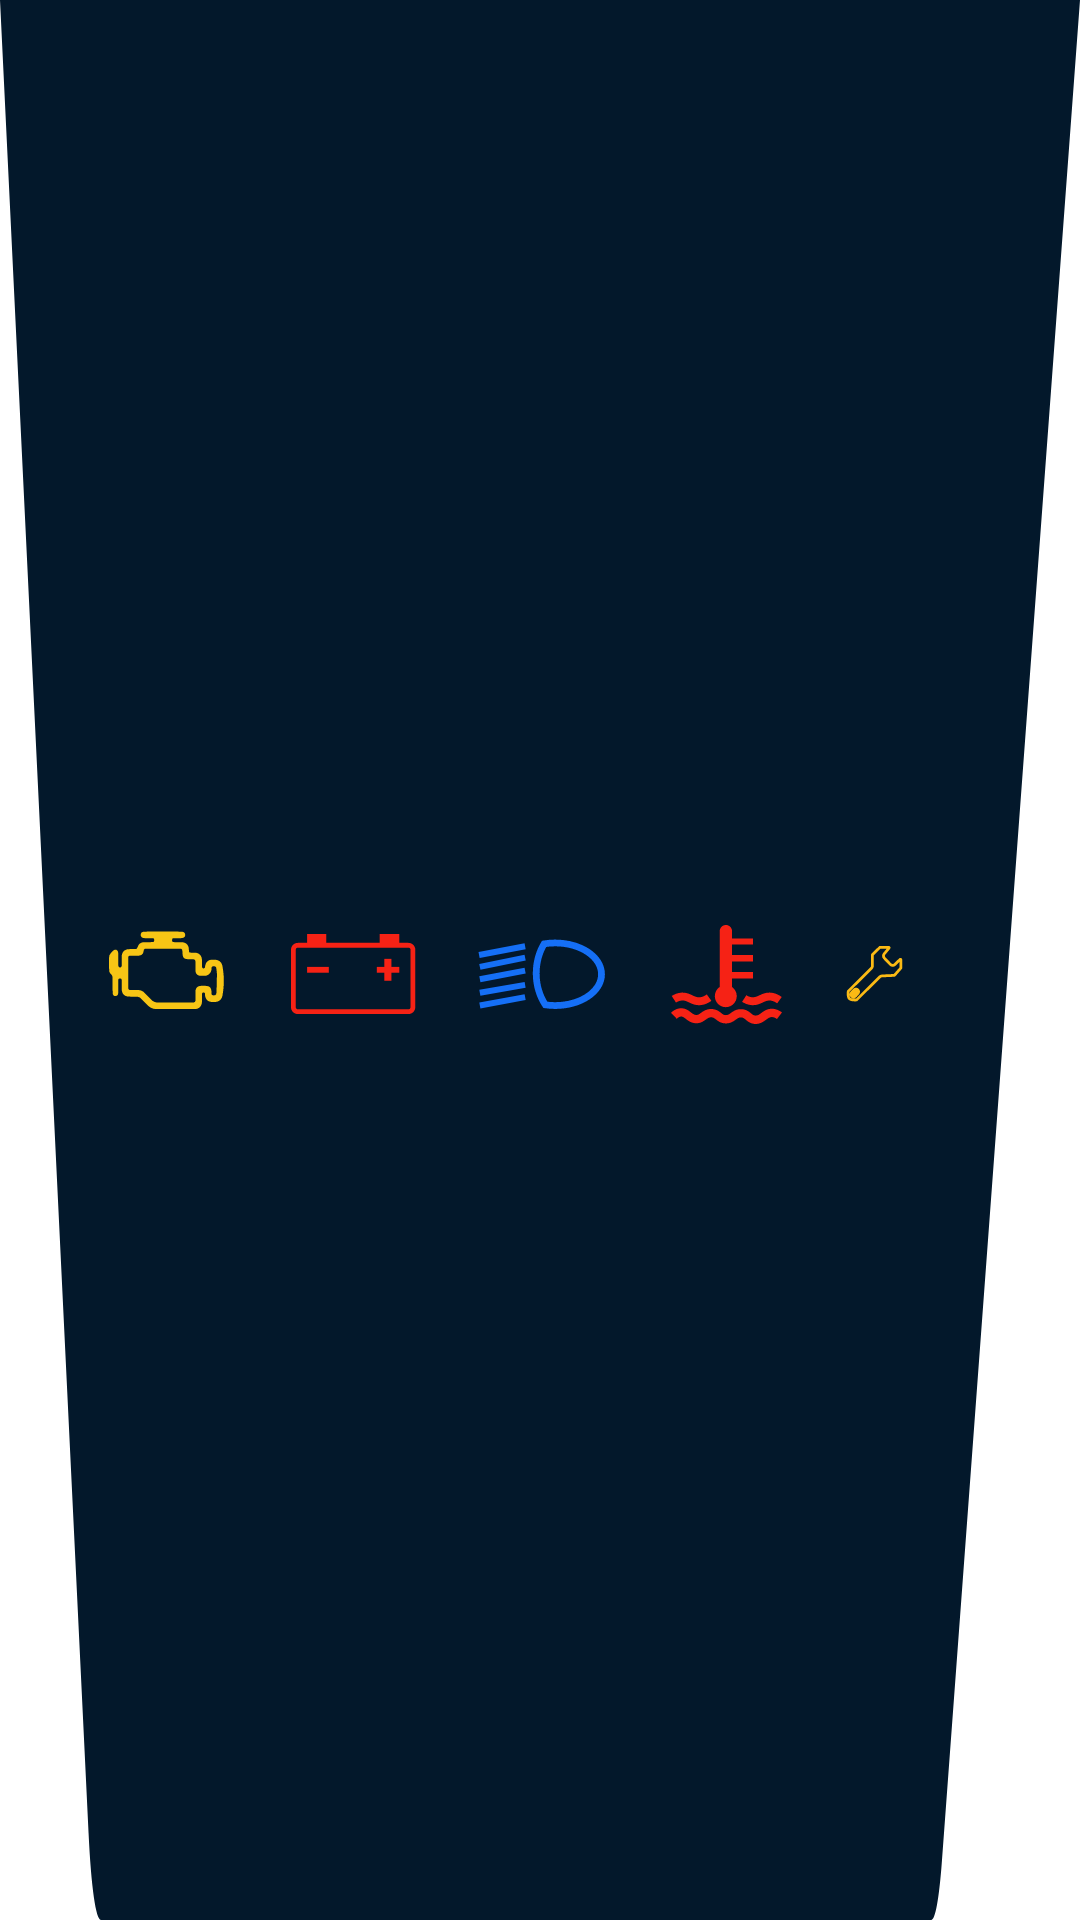

Where icons sit on this 1080 × 1920 app screen, as {"x1": x1, "y1": y1, "x2": x2, "y2": y2}:
battery: {"x1": 291, "y1": 934, "x2": 416, "y2": 1014}
beam: {"x1": 478, "y1": 939, "x2": 605, "y2": 1009}
engine cooling system: {"x1": 671, "y1": 925, "x2": 782, "y2": 1024}
service: {"x1": 846, "y1": 946, "x2": 903, "y2": 1002}
